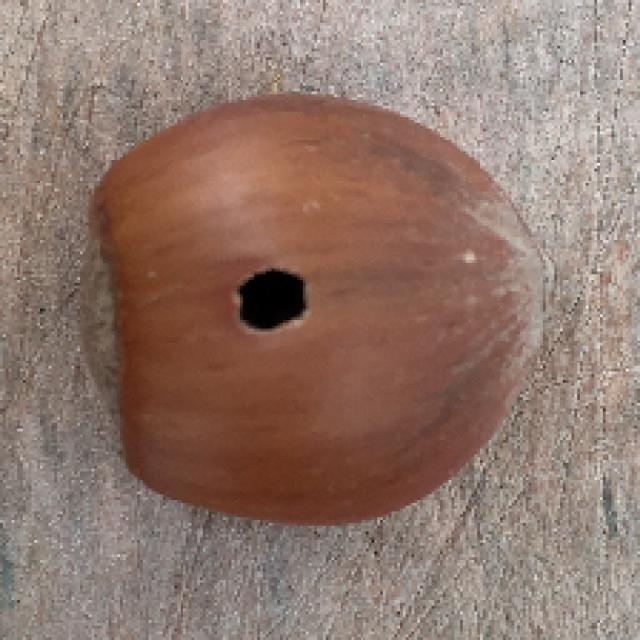damagedHazelnut: (75, 100, 542, 531)
